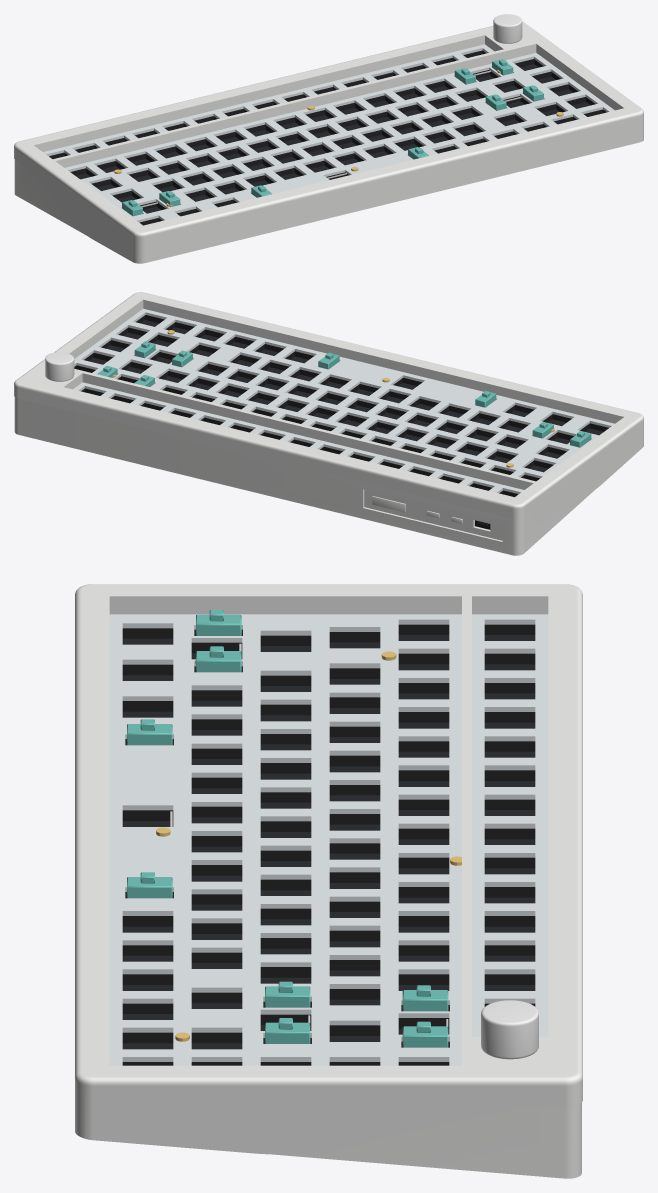
The model's file is 75-ansi.glb.
3 views of the same model, one above another, from view 1: azimuth 30°, elevation 25°; view 2: azimuth 150°, elevation 25°; view 3: azimuth 270°, elevation 25° (orthographic). The views are drawn at different scales.
Visible parts, largest first — view 1: upperLid, plate, plateFoam, pcbFoam, pcb, stabilizers, lowerLid, knob; view 2: upperLid, plate, lowerLid, plateFoam, pcbFoam, pcb, stabilizers, knob, rearLight; view 3: plate, upperLid, plateFoam, pcb, pcbFoam, lowerLid, stabilizers, knob.
Boxes of the visible parts, bbox=[...] form: upperLid: bbox=[14, 21, 643, 263]; plate: bbox=[43, 44, 614, 222]; plateFoam: bbox=[49, 50, 606, 224]; pcbFoam: bbox=[52, 53, 603, 225]; pcb: bbox=[76, 64, 590, 213]; stabilizers: bbox=[122, 59, 543, 216]; lowerLid: bbox=[14, 159, 85, 234]; knob: bbox=[493, 14, 522, 43]; upperLid: bbox=[14, 292, 643, 519]; plate: bbox=[73, 308, 614, 494]; lowerLid: bbox=[14, 397, 593, 555]; plateFoam: bbox=[74, 315, 608, 496]; pcbFoam: bbox=[75, 317, 605, 497]; pcb: bbox=[89, 320, 603, 472]; stabilizers: bbox=[97, 341, 591, 447]; knob: bbox=[45, 352, 74, 381]; rearLight: bbox=[372, 496, 462, 523]; plate: bbox=[109, 614, 548, 1065]; upperLid: bbox=[75, 584, 582, 1154]; plateFoam: bbox=[122, 624, 535, 1065]; pcb: bbox=[122, 635, 535, 1049]; pcbFoam: bbox=[122, 630, 535, 1043]; lowerLid: bbox=[272, 1103, 581, 1178]; stabilizers: bbox=[127, 610, 448, 1047]; knob: bbox=[481, 1000, 538, 1059].
Size of what is drawn, in the model's own units: 32.5 by 4.23 by 14.03.
